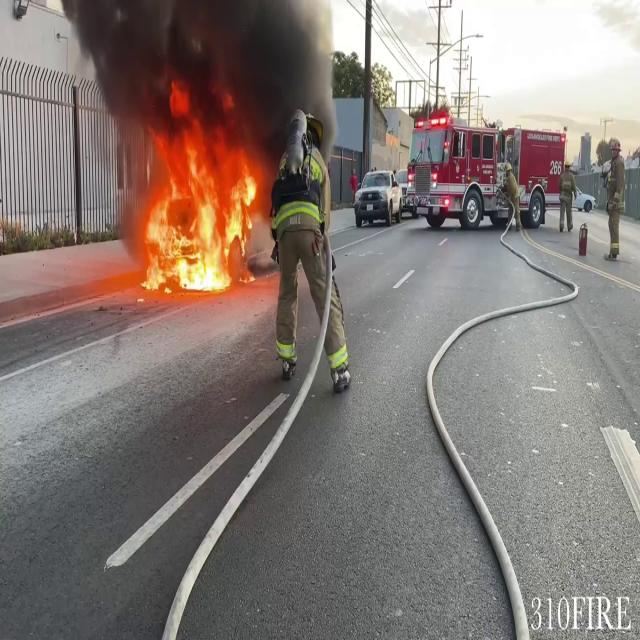Fire: (133, 98, 265, 294)
Smoke: (71, 0, 339, 149)
